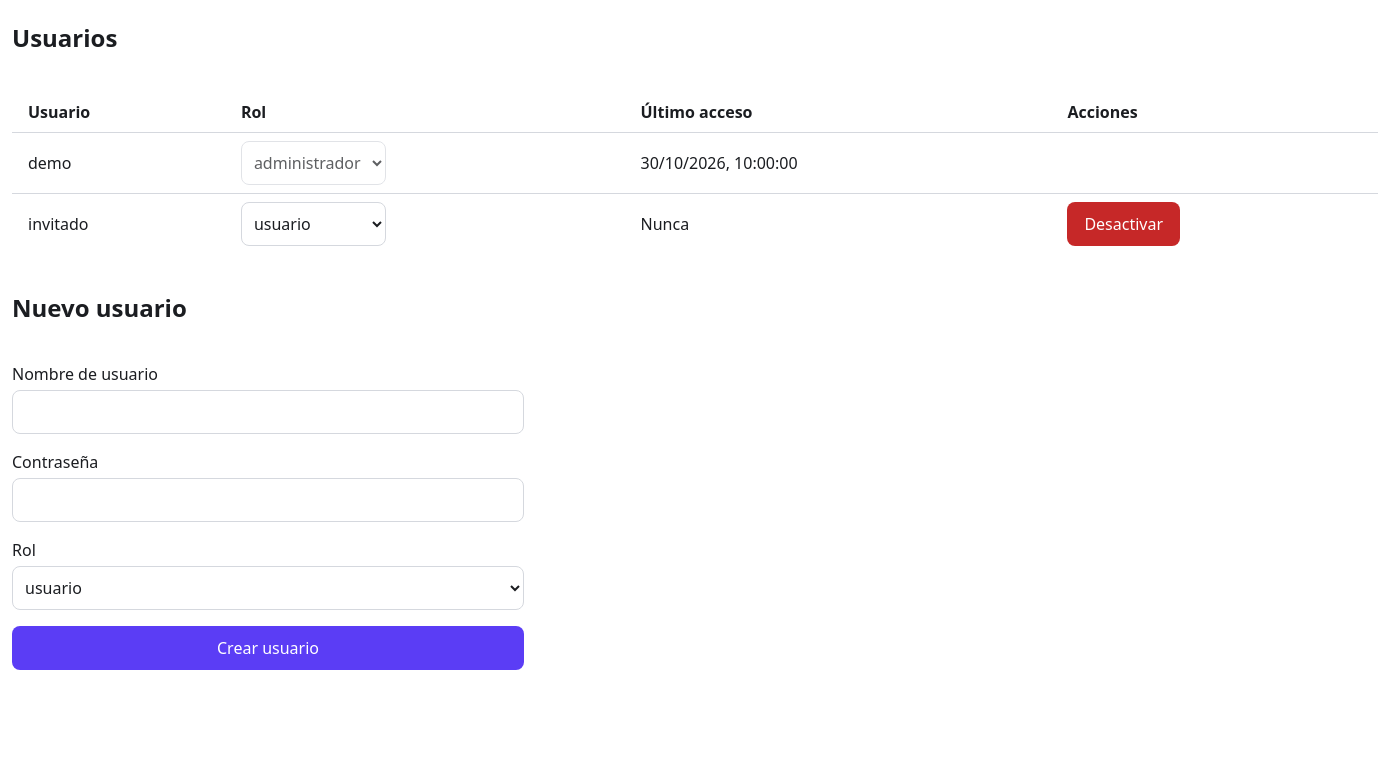
UsersView › desactiva y reactiva a un usuario
Click the button "Desactivar".
click(1124, 224)  # box [1067,202,1180,246]
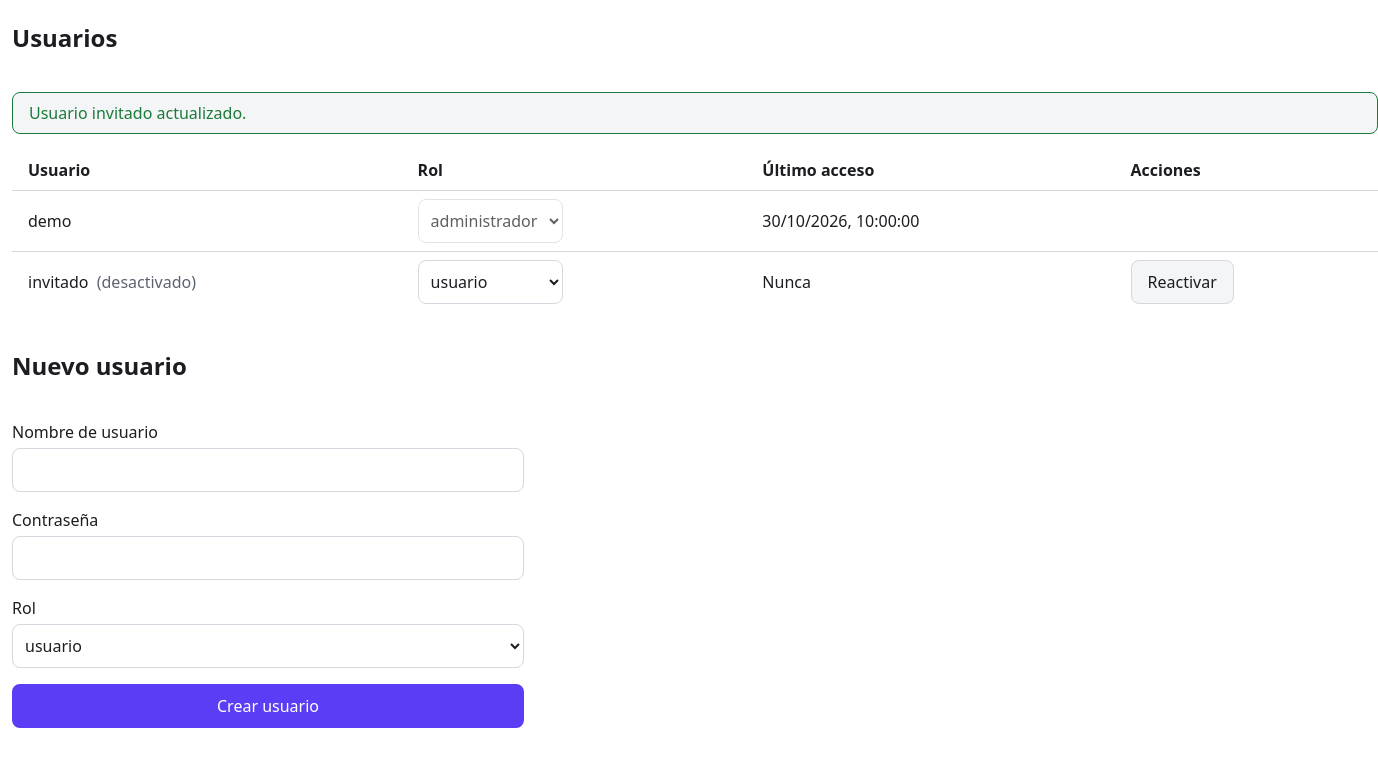
Expected: the row "invitado (desactivado) Nunca Reactivar" is shown, [12,251,1377,312]
Click the button "Reactivar".
click(1182, 282)  # box [1131,260,1234,304]
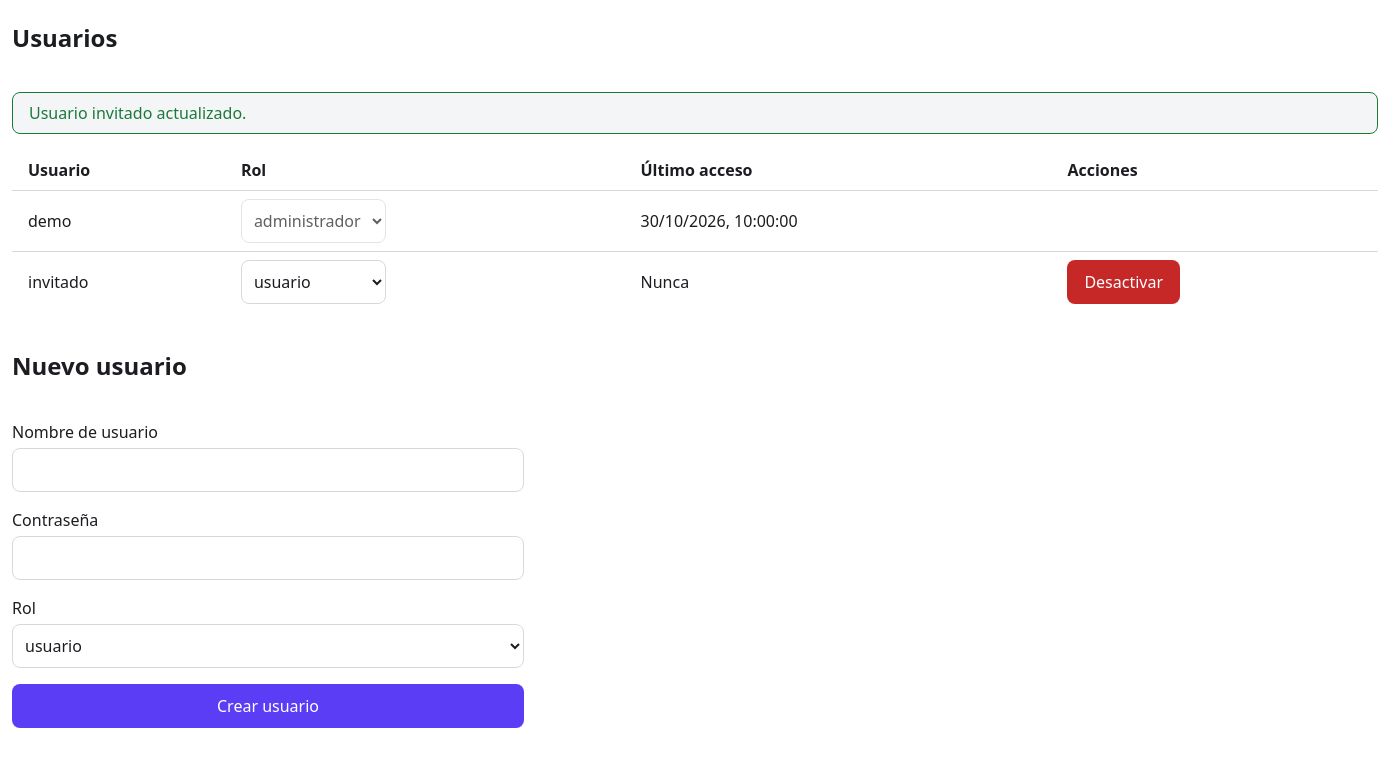
Expected: the text "(desactivado)" is gone
